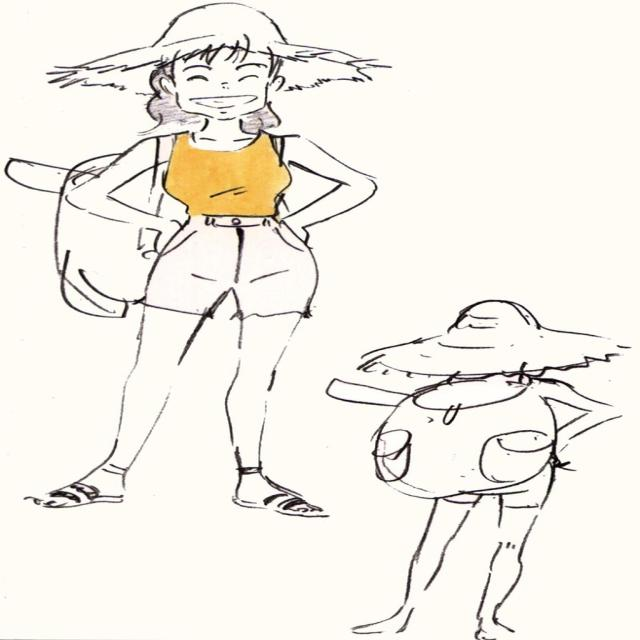Hat: (38, 2, 394, 94), (354, 295, 628, 380)
